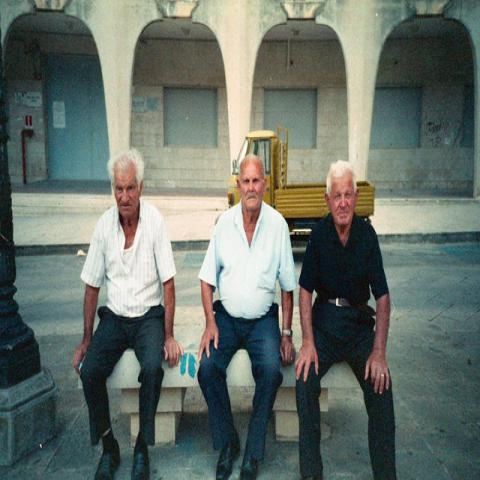truck: (226, 127, 376, 220)
